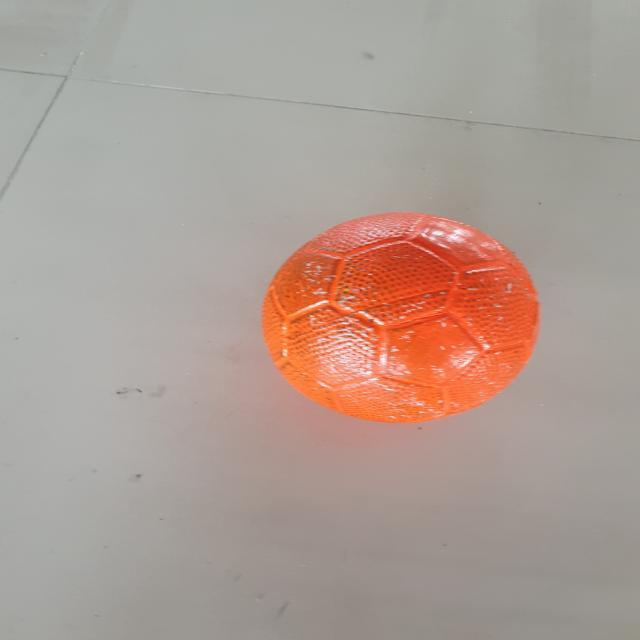bola: (259, 209, 543, 431)
